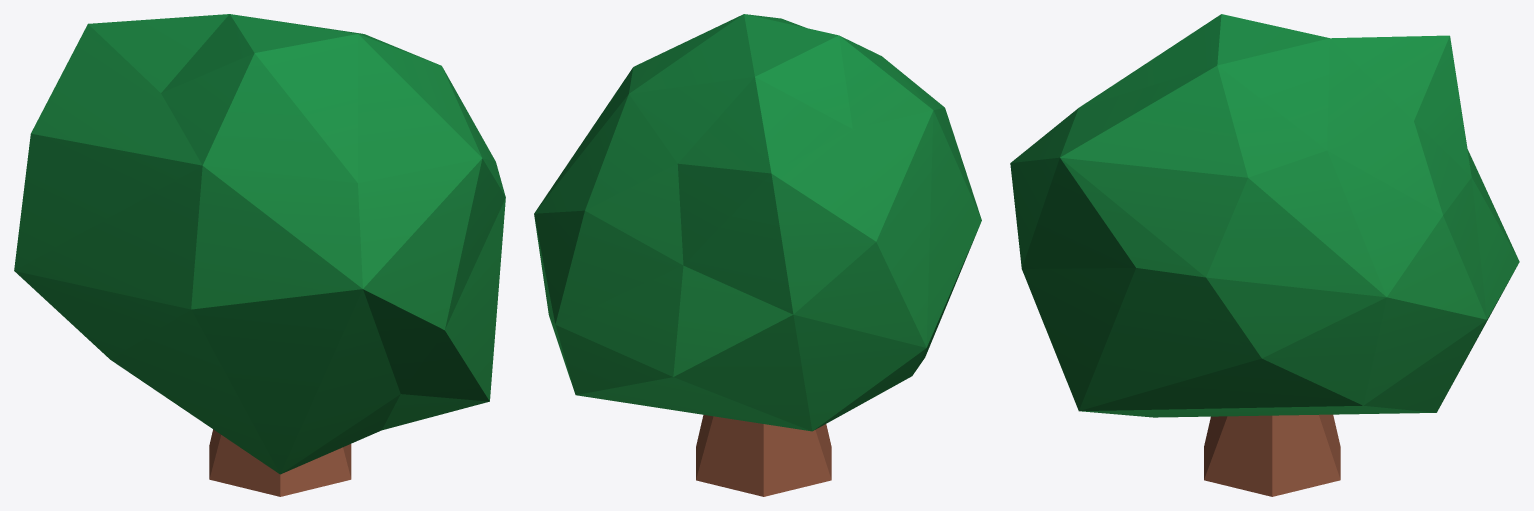
The model's file is Bush_1_gradient_green_pal.fbx.
3 views of the same model, side by side, from view 1: azimuth 30°, elevation 25°; view 2: azimuth 150°, elevation 25°; view 3: azimuth 270°, elevation 25° (orthographic). The views are drawn at different scales.
Parts seen in each view (by area): view 1: Bush_1_gradient_green_pal; view 2: Bush_1_gradient_green_pal; view 3: Bush_1_gradient_green_pal.
Boxes of the visible parts, x1,y1,x2,y2 form: Bush_1_gradient_green_pal: (14, 14, 505, 496); Bush_1_gradient_green_pal: (534, 14, 981, 496); Bush_1_gradient_green_pal: (1010, 14, 1519, 496).
Bounding box in the file's own units: 40.88 × 42.19 × 45.82.
